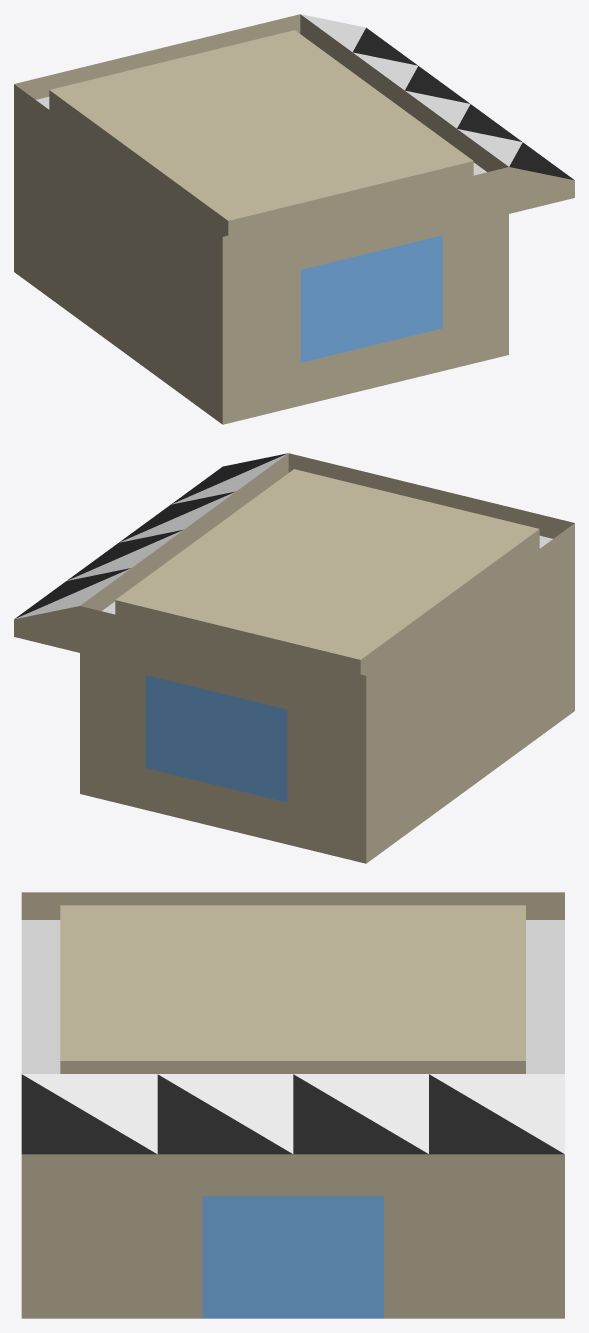
The model's file is newstore.fbx.
The picture shows the model from 3 angles, top to bottom: view 1: azimuth 30°, elevation 25°; view 2: azimuth 150°, elevation 25°; view 3: azimuth 270°, elevation 25°; orthographic projection. The views are drawn at different scales.
Visible parts, largest first — view 1: Cube; view 2: Cube; view 3: Cube.
Part boxes in pixels (x1,y1,x2,y2): Cube: [14, 14, 574, 424]; Cube: [14, 453, 574, 863]; Cube: [21, 892, 564, 1318].
Bounding box in the file's own units: 14.41 × 7.35 × 15.28.
